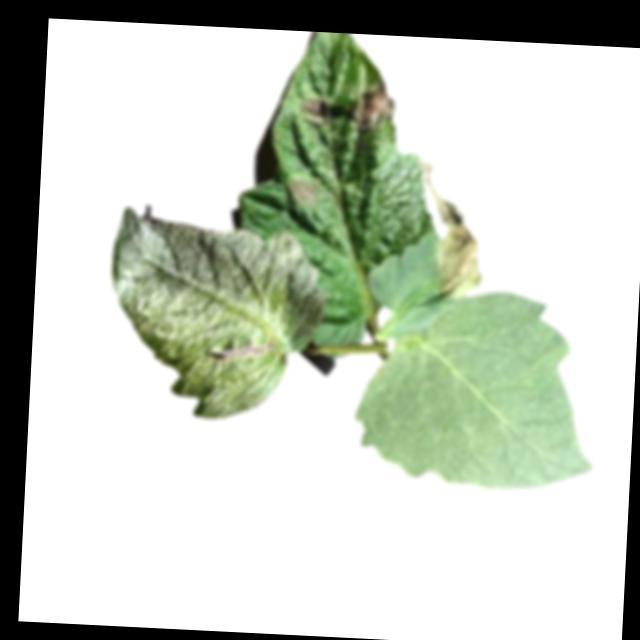Late_blight: (426, 175, 488, 299), (354, 81, 394, 136), (289, 176, 326, 207), (301, 97, 330, 124)
healthy: (351, 284, 605, 495), (105, 204, 331, 425)
